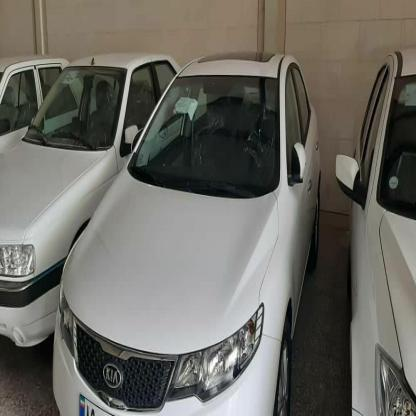Car: (55, 43, 322, 416), (0, 41, 178, 343), (338, 34, 416, 416), (0, 44, 65, 154)
